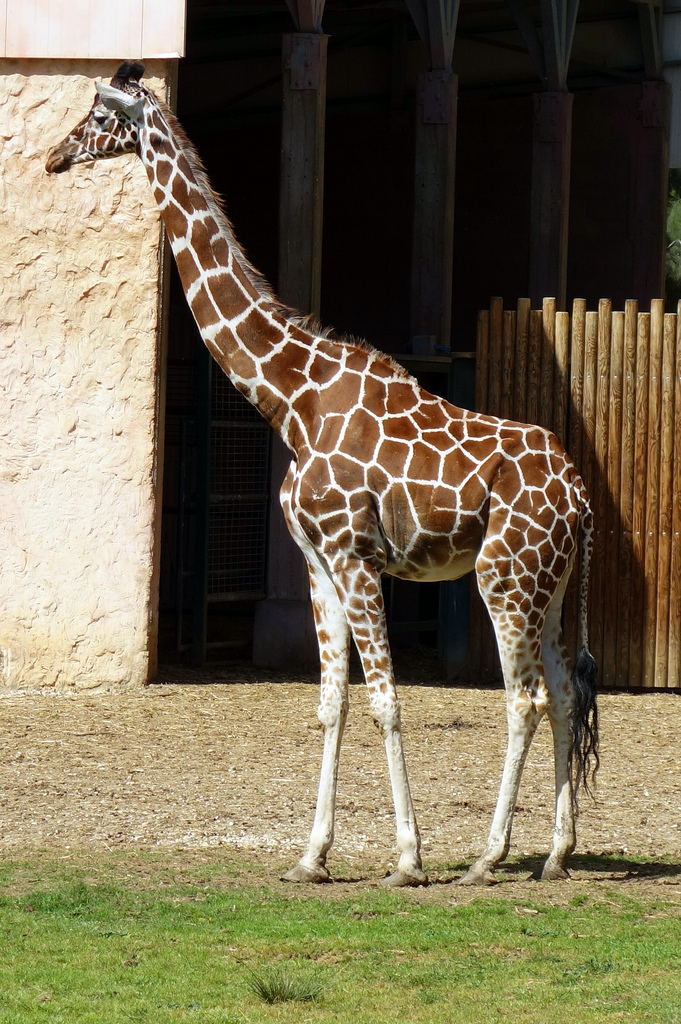giraffe: (46, 55, 672, 907)
